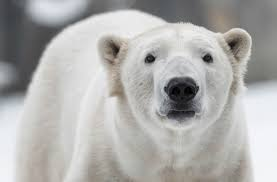PolarBear: (13, 12, 260, 182)
